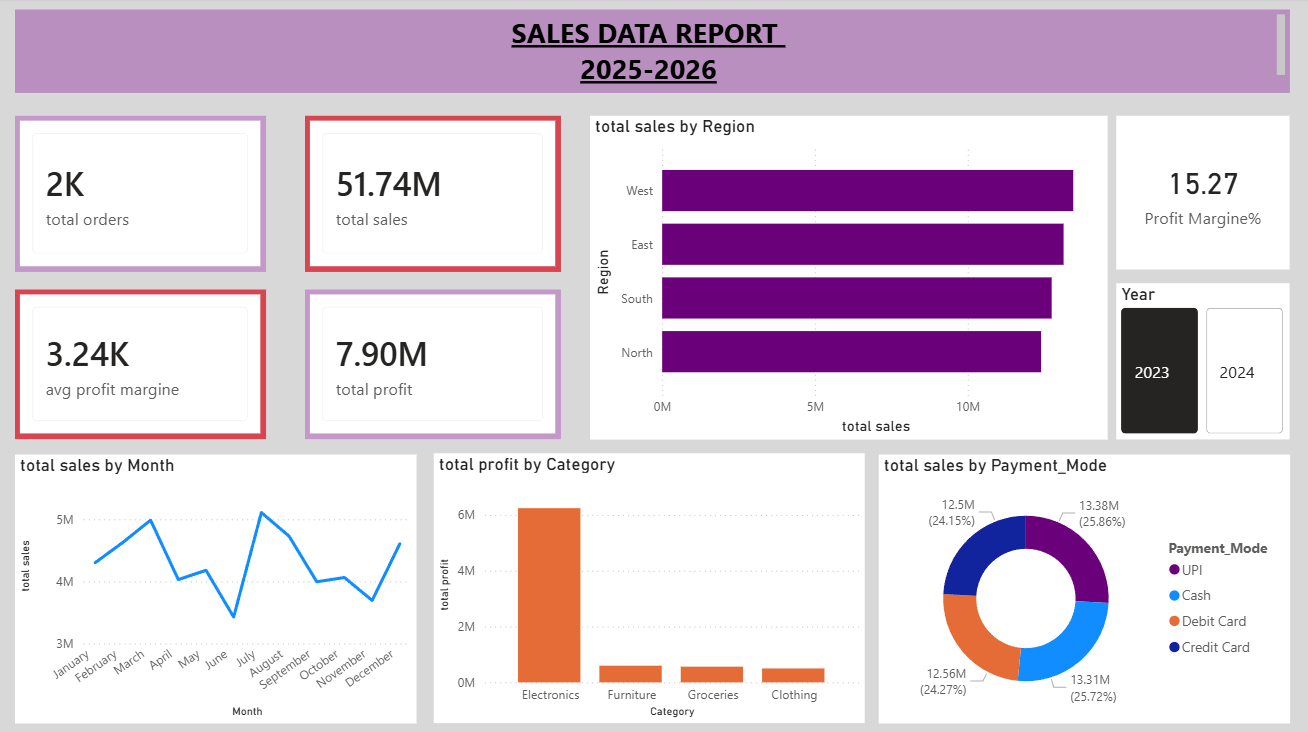

Layout of this report page (visuals, bound fields, positions):
{"tool":"powerbi","page":{"name":"Page 1","canvas":[1280,720],"ordinal":0},"visuals":[{"type":"textbox","box":[14.7,12.2,1247.3,81.9],"z":0},{"type":"barChart","fields":{"Category":["Advanced_Sales_Dataset_5000_Rows.Region"],"Y":["Advanced_Sales_Dataset_5000_Rows.total sales"]},"box":[577.2,116.2,506.3,316.7],"z":1000},{"type":"lineChart","fields":{"Category":["Advanced_Sales_Dataset_5000_Rows.Order_Date.Variation.Date Hierarchy.Month"],"Y":["Advanced_Sales_Dataset_5000_Rows.total sales"]},"box":[14.7,447.6,392.5,262.9],"z":2000},{"type":"donutChart","fields":{"Category":["Advanced_Sales_Dataset_5000_Rows.Payment_Mode"],"Y":["Advanced_Sales_Dataset_5000_Rows.total sales"]},"box":[859.7,447.6,402.3,262.9],"z":3000},{"type":"columnChart","fields":{"Category":["Advanced_Sales_Dataset_5000_Rows.Category"],"Y":["Advanced_Sales_Dataset_5000_Rows.total profit"]},"box":[424.3,446.3,421.9,264.1],"z":4000},{"type":"cardVisual","fields":{"Data":["Advanced_Sales_Dataset_5000_Rows.total orders"]},"box":[14.7,116.2,245.8,152.9],"z":5000},{"type":"cardVisual","fields":{"Data":["Advanced_Sales_Dataset_5000_Rows.total profit"]},"box":[298.4,286.1,250.7,146.7],"z":6000},{"type":"cardVisual","fields":{"Data":["Advanced_Sales_Dataset_5000_Rows.avg profit margine"]},"box":[14.7,286.1,245.8,146.7],"z":7000},{"type":"cardVisual","fields":{"Data":["Advanced_Sales_Dataset_5000_Rows.total sales"]},"box":[298.4,116.2,250.7,152.9],"z":8000},{"type":"advancedSlicerVisual","fields":{"Values":["Advanced_Sales_Dataset_5000_Rows.Order_Date.Variation.Date Hierarchy.Year"]},"box":[1092,280,170,152.9],"z":9000},{"type":"card","title":"Profit Margin%","fields":{"Values":["Advanced_Sales_Dataset_5000_Rows.margine"]},"box":[1092,116.2,170,150.4],"z":10000}]}

Visuals, with their boxes in screenshot pixels (x1, y1, x2, y2), scaled from the page's 1280x720 canvas onto the 1308x732 screenshot:
textbox: bbox=[15, 12, 1290, 96]
barChart - Advanced_Sales_Dataset_5000_Rows.Region x Advanced_Sales_Dataset_5000_Rows.total sales: bbox=[590, 118, 1107, 440]
lineChart - Advanced_Sales_Dataset_5000_Rows.Order_Date.Variation.Date Hierarchy.Month x Advanced_Sales_Dataset_5000_Rows.total sales: bbox=[15, 455, 416, 722]
donutChart - Advanced_Sales_Dataset_5000_Rows.Payment_Mode x Advanced_Sales_Dataset_5000_Rows.total sales: bbox=[879, 455, 1290, 722]
columnChart - Advanced_Sales_Dataset_5000_Rows.Category x Advanced_Sales_Dataset_5000_Rows.total profit: bbox=[434, 454, 865, 722]
cardVisual - Advanced_Sales_Dataset_5000_Rows.total orders: bbox=[15, 118, 266, 274]
cardVisual - Advanced_Sales_Dataset_5000_Rows.total profit: bbox=[305, 291, 561, 440]
cardVisual - Advanced_Sales_Dataset_5000_Rows.avg profit margine: bbox=[15, 291, 266, 440]
cardVisual - Advanced_Sales_Dataset_5000_Rows.total sales: bbox=[305, 118, 561, 274]
advancedSlicerVisual - Advanced_Sales_Dataset_5000_Rows.Order_Date.Variation.Date Hierarchy.Year: bbox=[1116, 285, 1290, 440]
"Profit Margin%" card: bbox=[1116, 118, 1290, 271]
